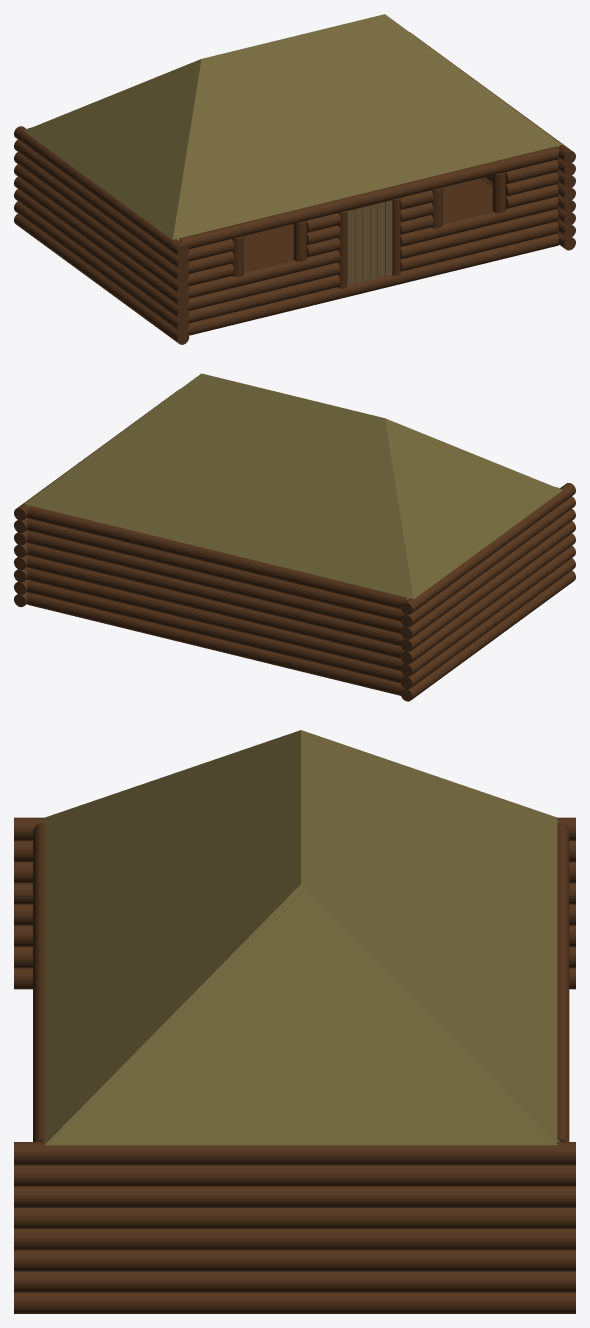
Rendered from FarmColors.fbx.
The picture shows the model from 3 angles, top to bottom: view 1: azimuth 30°, elevation 25°; view 2: azimuth 150°, elevation 25°; view 3: azimuth 270°, elevation 25°; orthographic projection. The views are drawn at different scales.
Parts seen in each view (by area): view 1: FarmHouse; view 2: FarmHouse; view 3: FarmHouse.
Boxes of the visible parts, x1,y1,x2,y2 form: FarmHouse: [14, 14, 575, 344]; FarmHouse: [14, 373, 575, 701]; FarmHouse: [14, 730, 575, 1313].
Bounding box in the file's own units: 2433 × 1166 × 1728.
